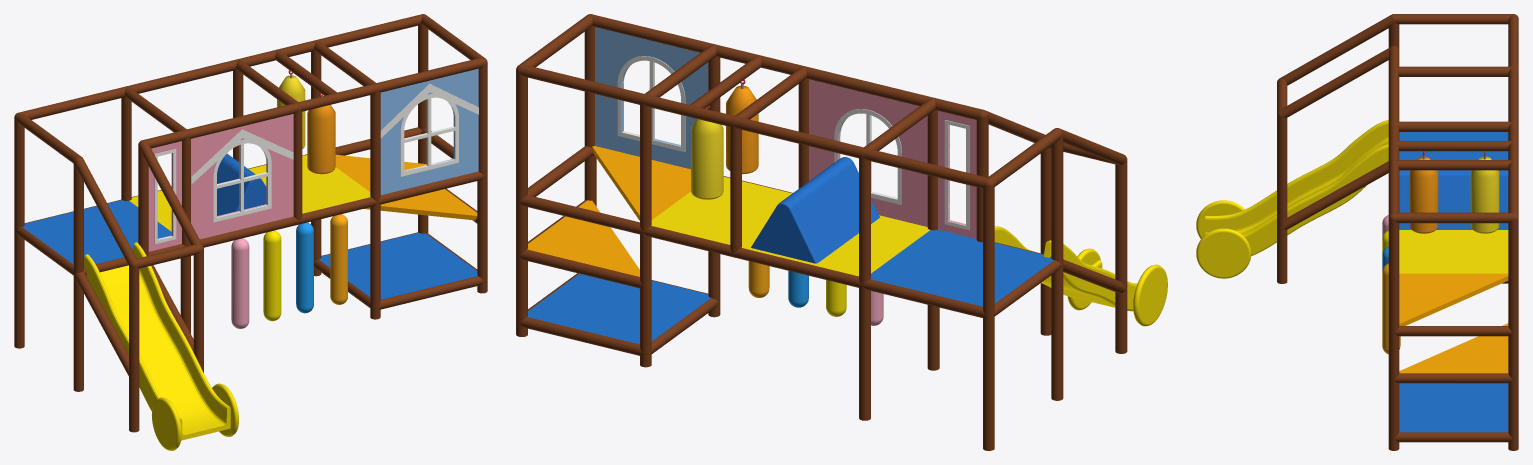
The model's file is brinquedao-modelo-5.glb.
The picture shows the model from 3 angles, left to right: view 1: azimuth 30°, elevation 25°; view 2: azimuth 150°, elevation 25°; view 3: azimuth 270°, elevation 25°; orthographic projection. The views are drawn at different scales.
Visible parts, largest first — view 1: tubos-madeira, escorregador-amarelo, piso-azul, painel-rosa, painel-azul, branco, piso-amarelo, piso-laranja, saco-laranja, cunha-azul, rolo-rosa, rolo-amarelo (+3 smaller); view 2: tubos-madeira, piso-azul, painel-rosa, piso-amarelo, piso-laranja, cunha-azul, painel-azul, escorregador-amarelo, branco, saco-amarelo, saco-laranja, rolo-laranja (+2 smaller); view 3: tubos-madeira, escorregador-amarelo, piso-azul, piso-laranja, piso-amarelo, cunha-azul, saco-laranja, saco-amarelo, rolo-laranja.
Boxes of the visible parts, box(x1,y1,x2,y2) form: tubos-madeira: box(14, 14, 487, 432); escorregador-amarelo: box(84, 242, 238, 450); piso-azul: box(22, 200, 477, 299); painel-rosa: box(148, 114, 293, 251); painel-azul: box(380, 68, 478, 194); branco: box(154, 83, 478, 244); piso-amarelo: box(129, 155, 370, 231); piso-laranja: box(335, 154, 477, 220); saco-laranja: box(307, 105, 335, 174); cunha-azul: box(217, 153, 266, 215); rolo-rosa: box(231, 238, 249, 328); rolo-amarelo: box(263, 230, 281, 321); tubos-madeira: box(516, 14, 1127, 450); piso-azul: box(527, 229, 1053, 344); painel-rosa: box(809, 79, 976, 238); piso-amarelo: box(651, 176, 929, 276); piso-laranja: box(527, 146, 690, 276); cunha-azul: box(751, 157, 879, 263); painel-azul: box(595, 27, 708, 169); escorregador-amarelo: box(994, 226, 1167, 326); branco: box(617, 56, 969, 230); saco-amarelo: box(691, 119, 723, 199); saco-laranja: box(726, 85, 758, 174); rolo-laranja: box(748, 261, 769, 297); tubos-madeira: box(1277, 14, 1518, 450); escorregador-amarelo: box(1196, 120, 1388, 278); piso-azul: box(1399, 132, 1508, 432); piso-laranja: box(1399, 273, 1508, 373); piso-amarelo: box(1399, 230, 1508, 273); cunha-azul: box(1399, 170, 1508, 229); saco-laranja: box(1409, 156, 1438, 233); saco-amarelo: box(1470, 156, 1499, 233); rolo-laranja: box(1382, 263, 1400, 354).
Bounding box in the file's own units: 3.7 × 2 × 2.48.
